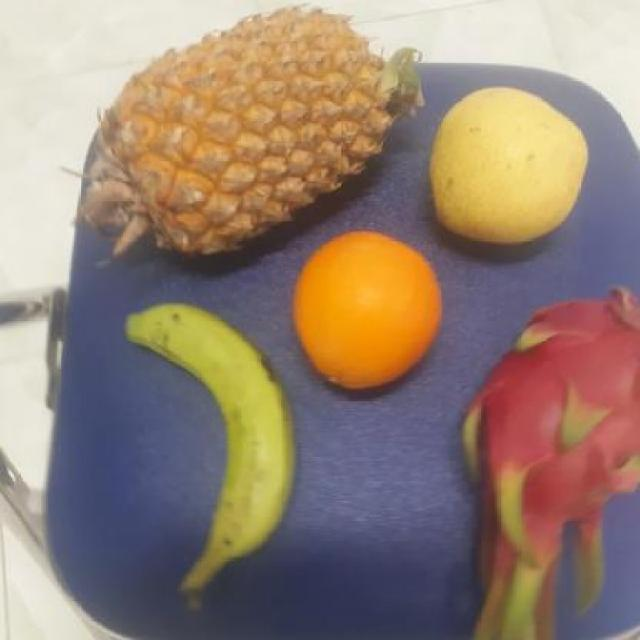banana: (133, 305, 299, 569)
dragon fruit: (457, 291, 638, 575)
oren: (292, 232, 450, 394)
pear: (430, 79, 595, 243)
pineapple: (99, 14, 416, 268)
